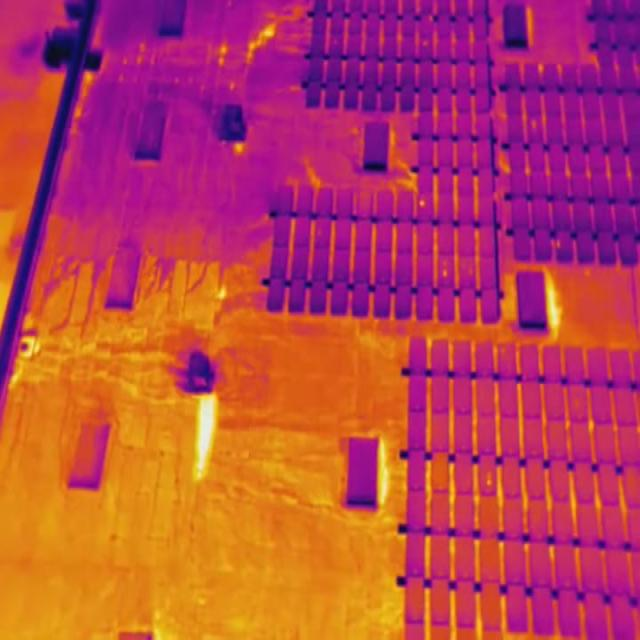Orange-Spots: (487, 472, 492, 486), (420, 199, 426, 208), (531, 121, 537, 129), (443, 260, 448, 266), (556, 241, 561, 247), (422, 41, 428, 46), (443, 270, 447, 277), (469, 268, 473, 274)
